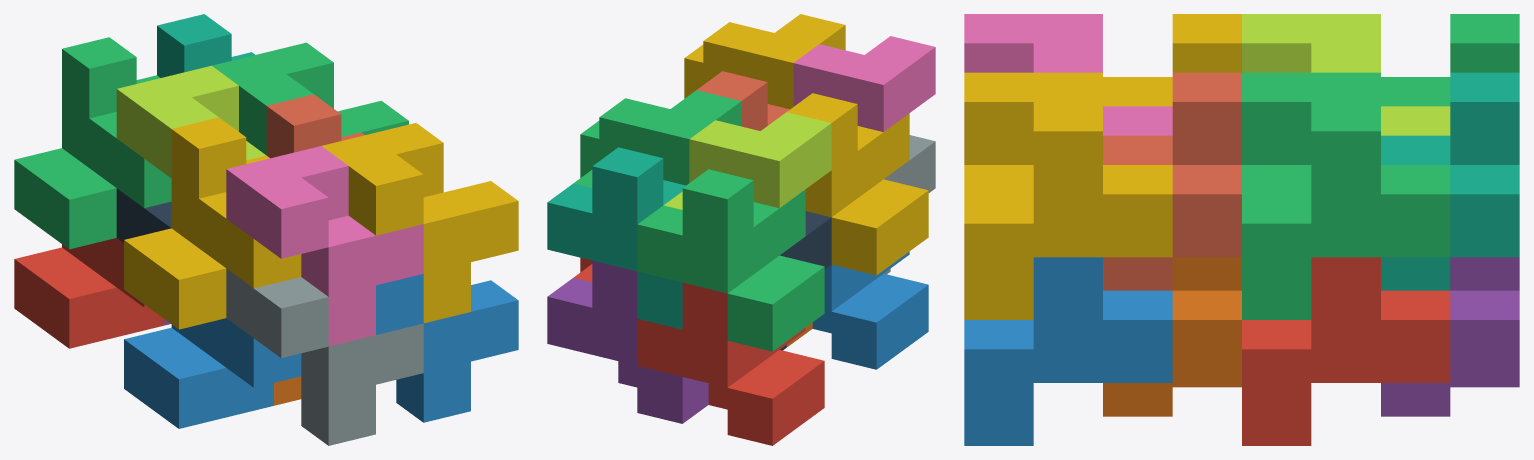
The model's file is tiling.obj.
3 views of the same model, side by side, from view 1: azimuth 30°, elevation 25°; view 2: azimuth 150°, elevation 25°; view 3: azimuth 270°, elevation 25° (orthographic). The views are drawn at different scales.
Parts seen in each view (by area): view 1: copy_2_domain_4, copy_1_domain_4, copy_2_domain_8, copy_1_domain_3, copy_2_domain_2, copy_1_domain_2, copy_2_domain_6, copy_1_domain_1, copy_2_domain_7, copy_2_domain_3, copy_1_domain_8, copy_1_domain_7 (+2 smaller); view 2: copy_1_domain_3, copy_1_domain_1, copy_1_domain_4, copy_1_domain_7, copy_1_domain_5, copy_2_domain_3, copy_2_domain_4, copy_1_domain_2, copy_2_domain_7, copy_2_domain_8, copy_1_domain_8, copy_2_domain_1 (+1 smaller); view 3: copy_2_domain_8, copy_2_domain_7, copy_2_domain_6, copy_2_domain_5, copy_1_domain_7, copy_1_domain_8, copy_1_domain_5, copy_1_domain_6, copy_2_domain_3, copy_2_domain_4, copy_1_domain_4, copy_1_domain_3.
Part boxes in pixels (box(x1,y1,x2,y2)): copy_2_domain_4: box(226, 146, 423, 346); copy_1_domain_4: box(124, 117, 301, 329); copy_2_domain_8: box(322, 123, 518, 323); copy_1_domain_3: box(14, 37, 171, 249); copy_2_domain_2: box(226, 268, 423, 445); copy_1_domain_2: box(124, 318, 301, 428); copy_2_domain_6: box(376, 274, 518, 422); copy_1_domain_1: box(14, 238, 164, 348); copy_2_domain_7: box(212, 42, 408, 155); copy_2_domain_3: box(116, 65, 265, 178); copy_1_domain_8: box(266, 94, 364, 158); copy_1_domain_7: box(157, 14, 255, 77); copy_1_domain_3: box(637, 169, 824, 351); copy_1_domain_1: box(637, 282, 824, 445); copy_1_domain_4: box(787, 93, 928, 275); copy_1_domain_7: box(547, 147, 685, 329); copy_1_domain_5: box(547, 260, 708, 423); copy_2_domain_3: box(664, 112, 831, 209); copy_2_domain_4: box(793, 36, 935, 131); copy_1_domain_2: box(812, 251, 928, 369); copy_2_domain_7: box(573, 90, 741, 187); copy_2_domain_8: box(684, 14, 845, 109); copy_1_domain_8: box(697, 71, 789, 130); copy_2_domain_1: box(780, 211, 831, 350); copy_2_domain_8: box(964, 72, 1172, 319); copy_2_domain_7: box(1242, 72, 1450, 319); copy_2_domain_6: box(964, 257, 1172, 445); copy_2_domain_5: box(1242, 257, 1450, 445); copy_1_domain_7: box(1381, 72, 1519, 290); copy_1_domain_8: box(1103, 72, 1241, 290); copy_1_domain_5: box(1381, 257, 1519, 416); copy_1_domain_6: box(1103, 257, 1241, 416); copy_2_domain_3: box(1242, 14, 1450, 135); copy_2_domain_4: box(964, 14, 1172, 135); copy_1_domain_4: box(1103, 14, 1241, 106); copy_1_domain_3: box(1381, 14, 1519, 106).
Bounding box in the file's own units: 6 × 5 × 8.
